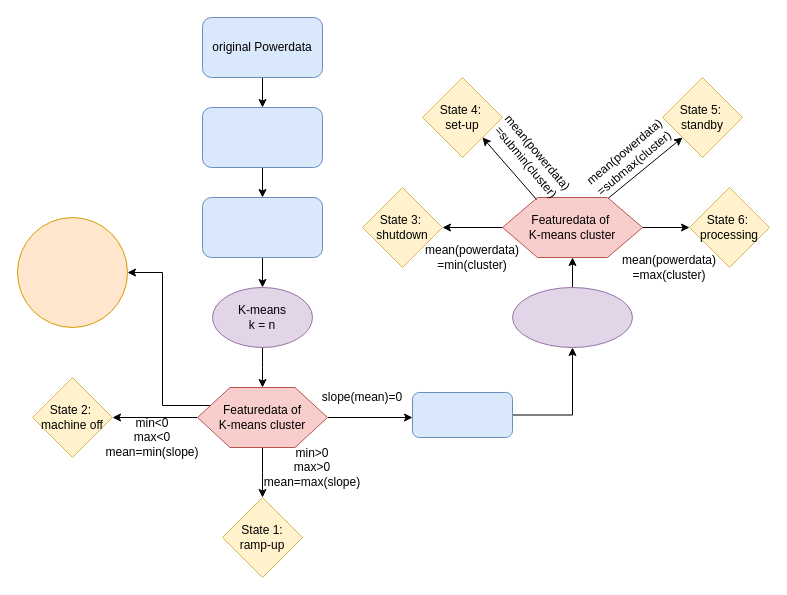
The diagram is 787 pixels wide and 595 high, and some of its shapes have lost their labels. The centre of each missing label's shape, as x and y in pixels:
denoised Powerdata: point (262, 137)
K-means k = 4: point (572, 317)
Powerdata of the cluster: point (462, 415)
slope of Powerdata: point (262, 227)
the state of powerdata in rest cluster = state of neighbours: point (72, 272)
